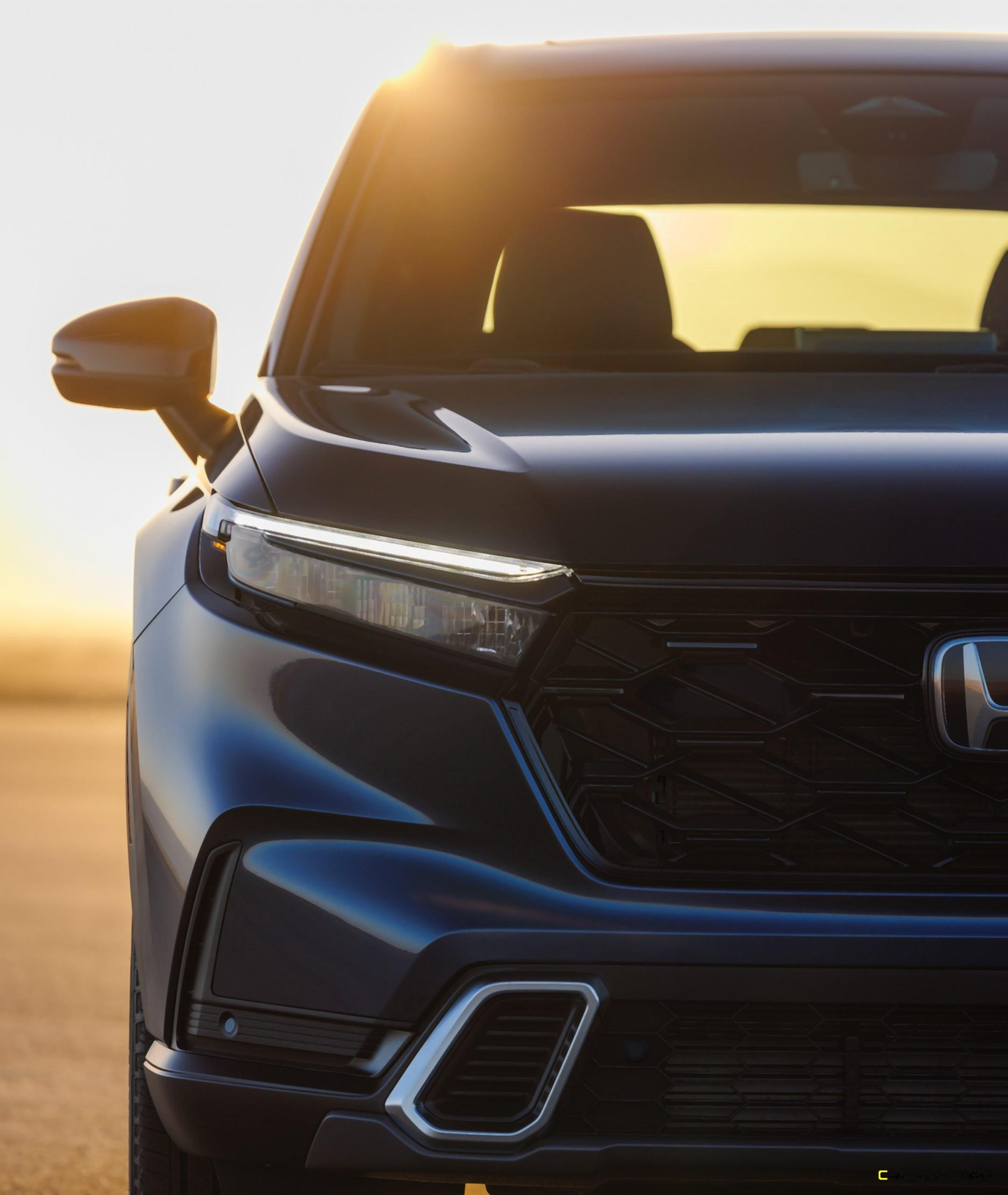Car hood: (238, 357, 1008, 607)
Front bumper: (115, 588, 1008, 1186)
Side mirror - -R-: (47, 292, 251, 468)
